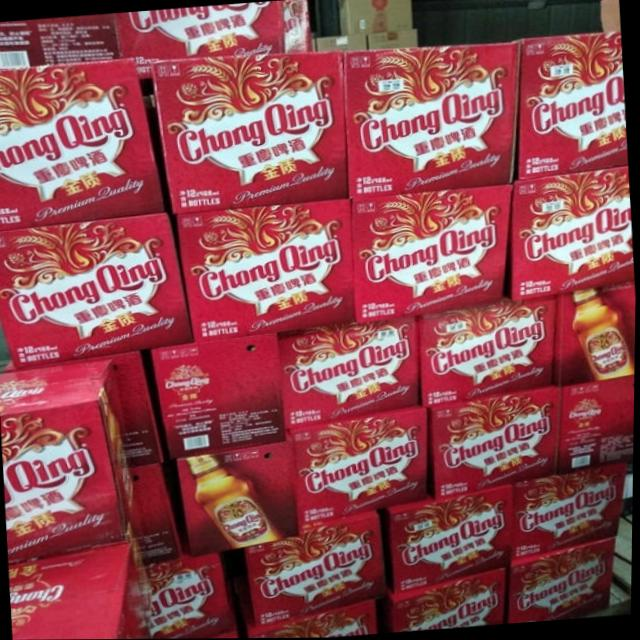box: (151, 51, 349, 214), (0, 213, 195, 369), (0, 59, 166, 231), (0, 360, 137, 563), (343, 42, 520, 199), (175, 199, 358, 341), (352, 184, 514, 323), (150, 333, 289, 459), (289, 407, 431, 524), (246, 509, 388, 626), (514, 165, 635, 300), (519, 31, 628, 180), (279, 316, 420, 428), (419, 294, 557, 407), (432, 385, 563, 500), (114, 0, 308, 77), (10, 541, 153, 640), (178, 441, 299, 557), (386, 485, 515, 593), (513, 462, 628, 560), (510, 538, 618, 623), (556, 284, 636, 385), (389, 567, 509, 633), (150, 554, 238, 639), (560, 376, 636, 474), (0, 13, 119, 68), (253, 600, 381, 638), (339, 0, 411, 35)
